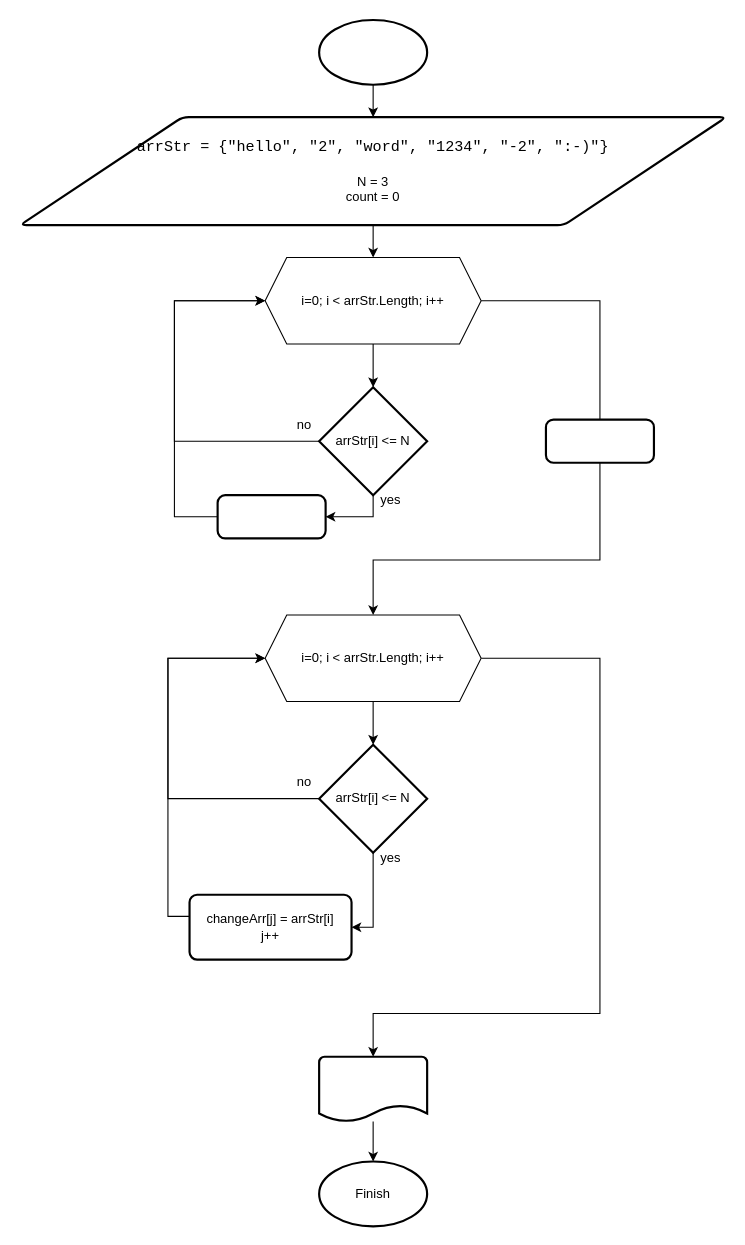
Some shapes in this 745 by 1245 pixel diagram are drawn without their labels. Here are the shapes that lost their labels. From the top down, the box of each, then its label:
(318, 18, 428, 85): Start
(544, 418, 654, 463): j = 0
(216, 494, 326, 539): count++
(318, 1055, 428, 1122): print changeArr
